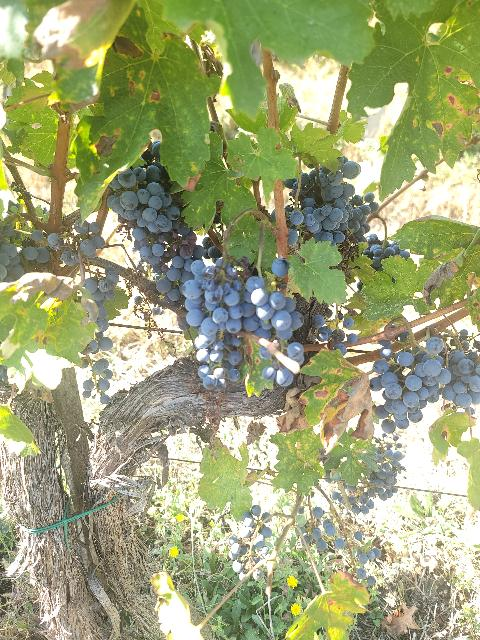grapes: (182, 260, 248, 390), (106, 161, 191, 261), (370, 338, 444, 432), (284, 156, 361, 245), (81, 270, 119, 404), (240, 276, 304, 340), (442, 350, 480, 409), (369, 444, 402, 500), (362, 234, 410, 270)
